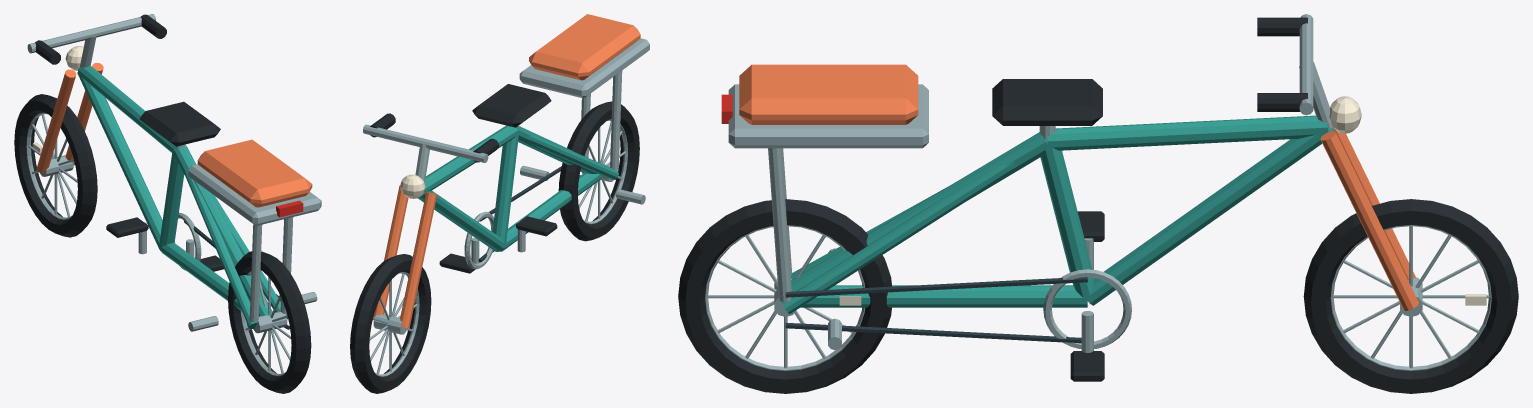
File: bicycle.glb
3 renders of one model, left to right at view 1: azimuth 30°, elevation 25°; view 2: azimuth 150°, elevation 25°; view 3: azimuth 270°, elevation 25°, orthographic. The views are drawn at different scales.
Parts seen in each view (by area): view 1: bicycle.Root_Teal, bicycle.WheelFront_Rubber, bicycle.WheelRear_Rubber, bicycle.Root_Orange, bicycle.Root_Steel, bicycle.Root_Rubber, bicycle.WheelFront_Steel, bicycle.Steering_Orange, bicycle.WheelRear_Steel, bicycle.Steering_Steel, bicycle.Steering_Rubber, bicycle.Crank_Steel (+3 smaller); view 2: bicycle.Root_Teal, bicycle.WheelFront_Rubber, bicycle.WheelRear_Rubber, bicycle.Root_Orange, bicycle.Root_Steel, bicycle.Steering_Orange, bicycle.Root_Rubber, bicycle.WheelFront_Steel, bicycle.Steering_Steel, bicycle.WheelRear_Steel, bicycle.Crank_Steel, bicycle.Pedal_L_Rubber (+4 smaller); view 3: bicycle.Root_Teal, bicycle.WheelFront_Rubber, bicycle.WheelRear_Rubber, bicycle.Root_Orange, bicycle.Root_Steel, bicycle.Root_Rubber, bicycle.Steering_Orange, bicycle.WheelFront_Steel, bicycle.WheelRear_Steel, bicycle.Root_Dark, bicycle.Crank_Steel, bicycle.Steering_Steel (+3 smaller).
Boxes of the visible parts, x1,y1,x2,y2 form: bicycle.Root_Teal: [77, 66, 287, 328]; bicycle.WheelFront_Rubber: [14, 94, 97, 237]; bicycle.WheelRear_Rubber: [228, 251, 311, 393]; bicycle.Root_Orange: [197, 139, 312, 207]; bicycle.Root_Steel: [175, 144, 321, 331]; bicycle.Root_Rubber: [139, 101, 220, 146]; bicycle.WheelFront_Steel: [26, 112, 77, 219]; bicycle.Steering_Orange: [36, 62, 103, 173]; bicycle.WheelRear_Steel: [240, 270, 291, 376]; bicycle.Steering_Steel: [27, 14, 155, 67]; bicycle.Steering_Rubber: [35, 14, 166, 64]; bicycle.Crank_Steel: [138, 212, 201, 270]; bicycle.Root_Teal: [418, 125, 618, 251]; bicycle.WheelFront_Rubber: [350, 254, 431, 393]; bicycle.WheelRear_Rubber: [558, 101, 639, 241]; bicycle.Root_Orange: [529, 14, 640, 80]; bicycle.Root_Steel: [516, 38, 649, 204]; bicycle.Steering_Orange: [373, 185, 437, 328]; bicycle.Root_Rubber: [472, 84, 551, 127]; bicycle.WheelFront_Steel: [369, 272, 419, 376]; bicycle.Steering_Steel: [363, 124, 488, 183]; bicycle.WheelRear_Steel: [578, 119, 627, 224]; bicycle.Crank_Steel: [464, 211, 525, 269]; bicycle.Pedal_L_Rubber: [516, 216, 557, 236]; bicycle.Root_Teal: [781, 115, 1333, 313]; bicycle.WheelFront_Rubber: [1303, 199, 1518, 393]; bicycle.WheelRear_Rubber: [678, 199, 891, 393]; bicycle.Root_Orange: [739, 64, 918, 124]; bicycle.Root_Steel: [728, 84, 1055, 349]; bicycle.Root_Rubber: [992, 79, 1102, 125]; bicycle.Steering_Orange: [1320, 127, 1418, 310]; bicycle.WheelFront_Steel: [1330, 225, 1491, 370]; bicycle.WheelRear_Steel: [705, 225, 864, 370]; bicycle.Root_Dark: [785, 277, 1087, 343]; bicycle.Crank_Steel: [1043, 238, 1131, 352]; bicycle.Steering_Steel: [1299, 14, 1332, 129].
Size of the model in its own units: 0.68 by 1.21 by 2.73.
